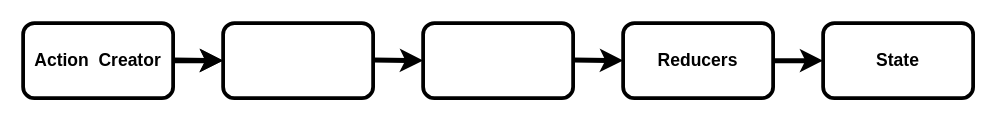
The diagram is 996 pixels wide and 121 high, and some of its shapes have lost their labels. Here are the shapes that lost their labels. From the top down, the centre of each, then its label:
(x=297, y=60): Action
(x=497, y=60): Dispatch
